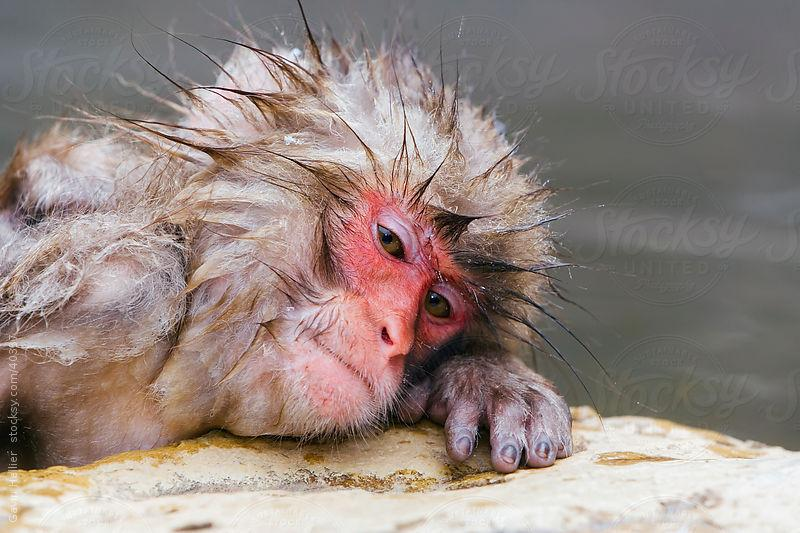monkey: (0, 34, 573, 475)
